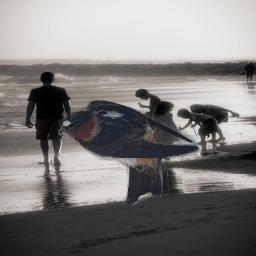Swallow: (58, 98, 201, 205)
